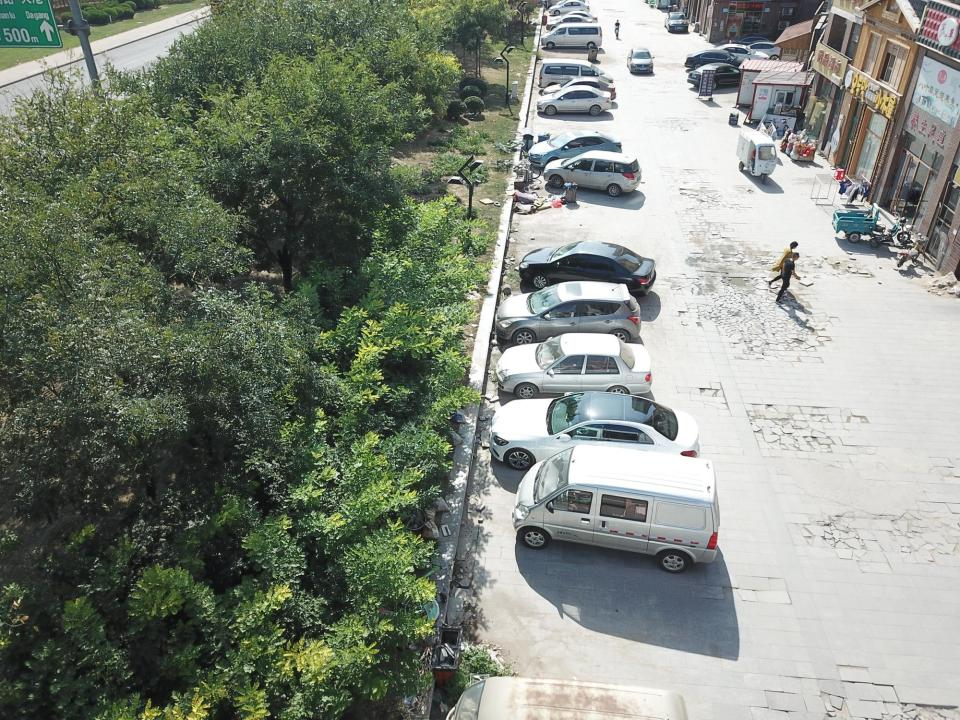car: (489, 390, 699, 471), (495, 333, 653, 398), (494, 281, 641, 345), (518, 240, 656, 300), (543, 150, 641, 197), (528, 129, 623, 168), (537, 86, 611, 116), (543, 76, 616, 103), (687, 62, 750, 90), (685, 49, 752, 71), (708, 44, 769, 65), (733, 42, 788, 61), (546, 15, 593, 33), (730, 36, 782, 52), (627, 47, 655, 73), (551, 10, 598, 25), (549, 0, 590, 16), (664, 11, 689, 32)
van: (513, 443, 720, 572), (445, 673, 688, 719), (540, 59, 614, 90), (540, 23, 602, 48)
